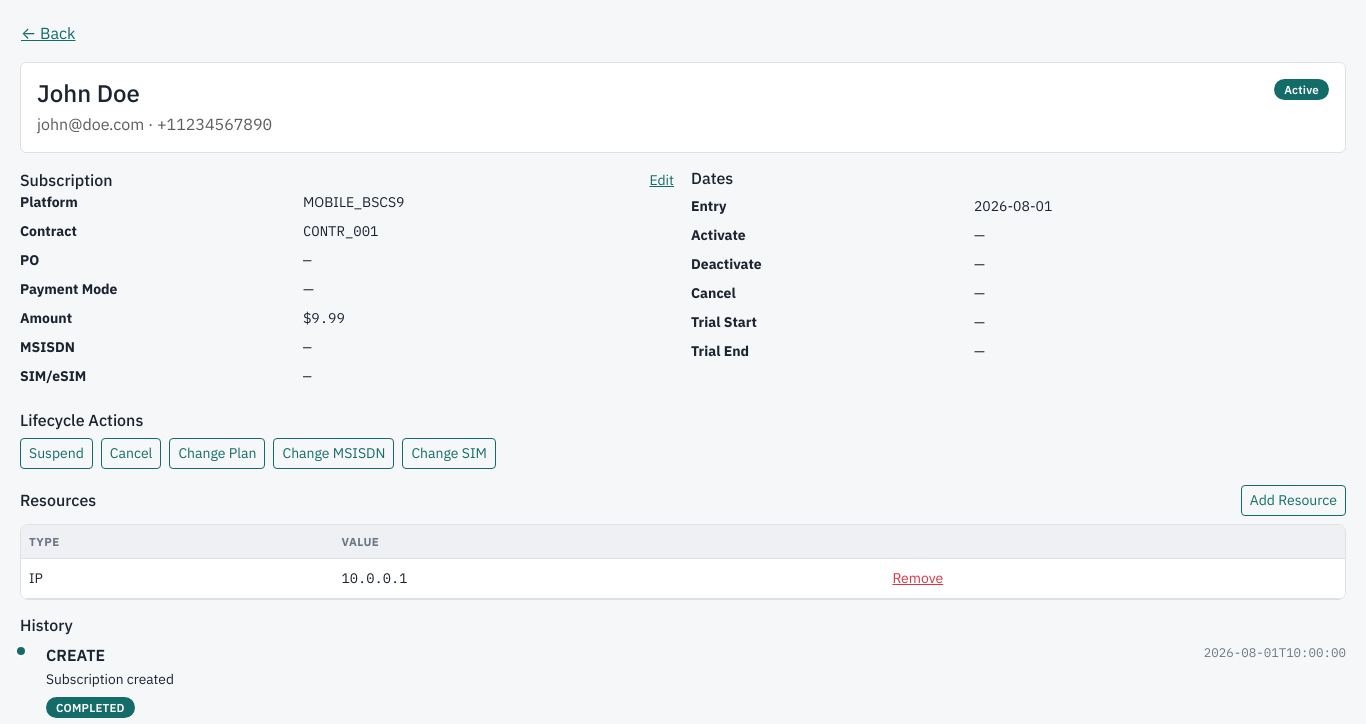
Test: a rejected subscription edit shows its error without changing the displayed data
The width and height of the screenshot is (1366, 724).
Expected: the heading "John Doe" is shown, x1=37 y1=77 x2=140 y2=109
Click the button "Edit" at (662, 180), box x1=648 y1=169 x2=675 y2=192
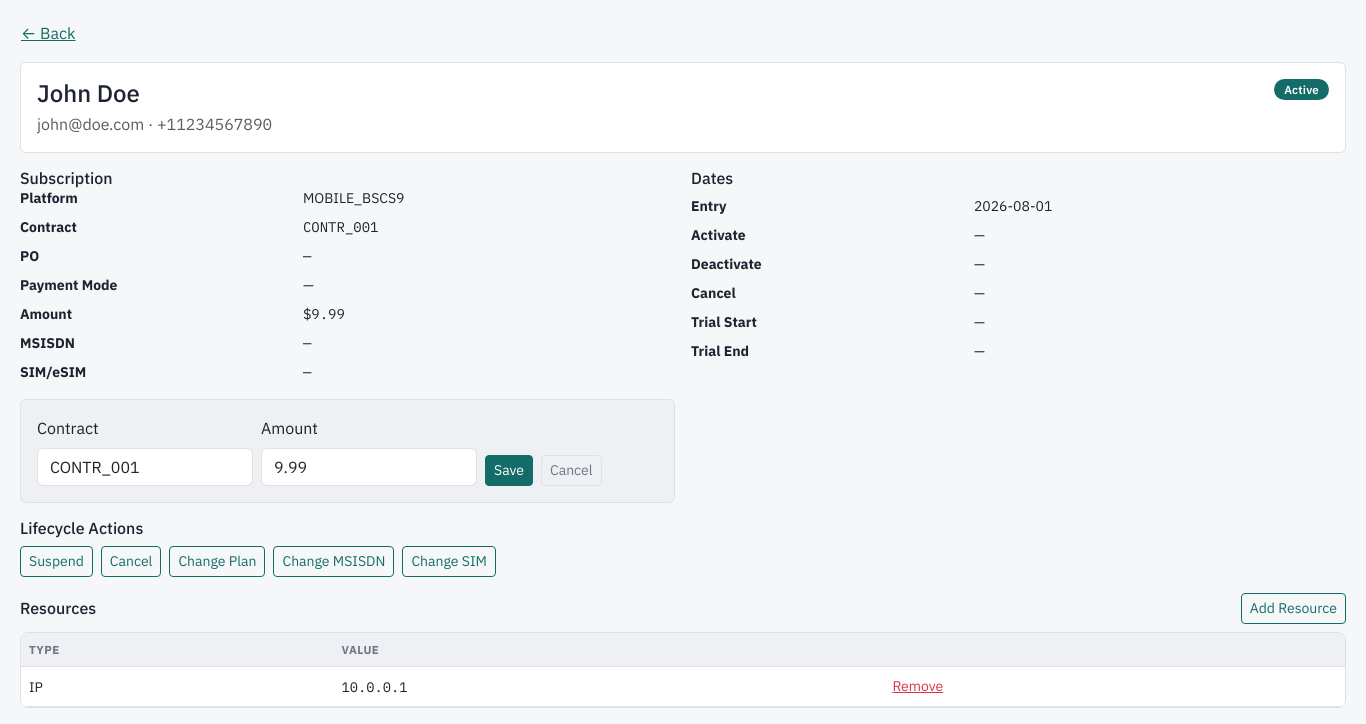
Replace the text in the number field labelled "Amount" with "-5" at (369, 467), box x1=261 y1=448 x2=477 y2=486
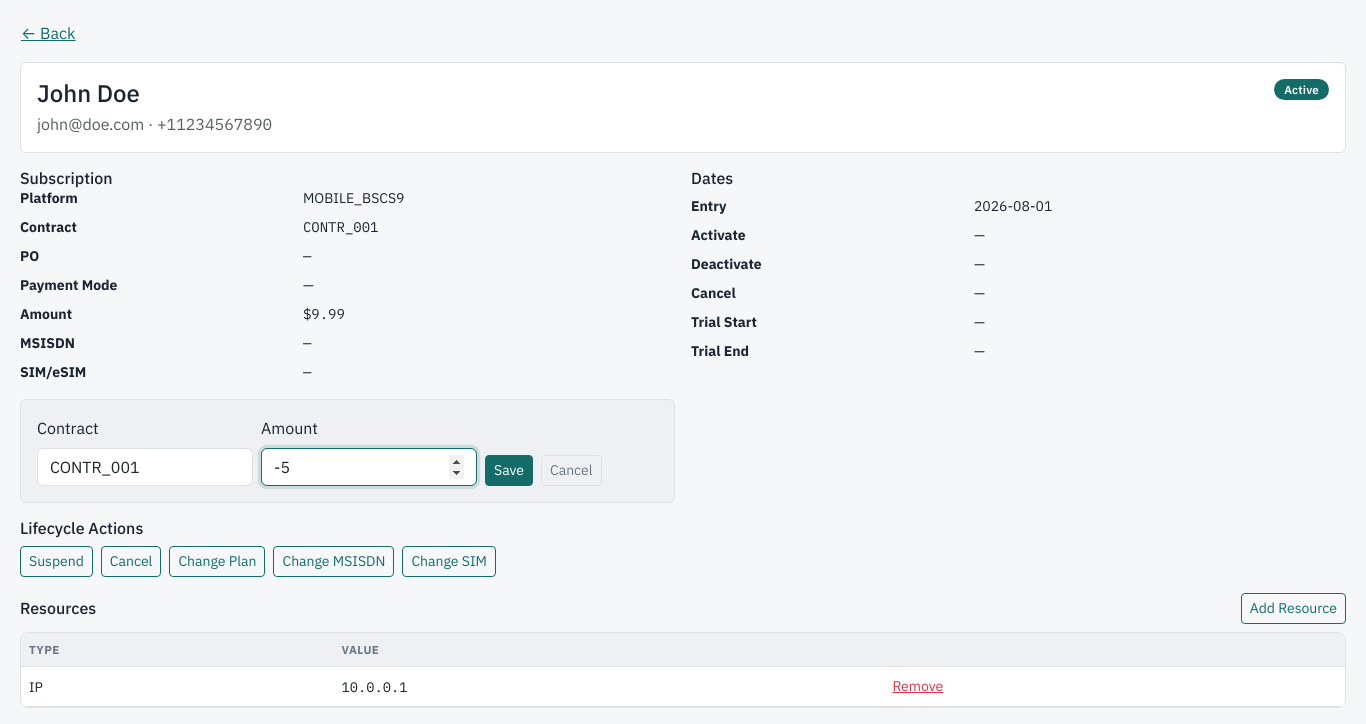
Click the button "Save" at (509, 470), box x1=485 y1=455 x2=533 y2=486
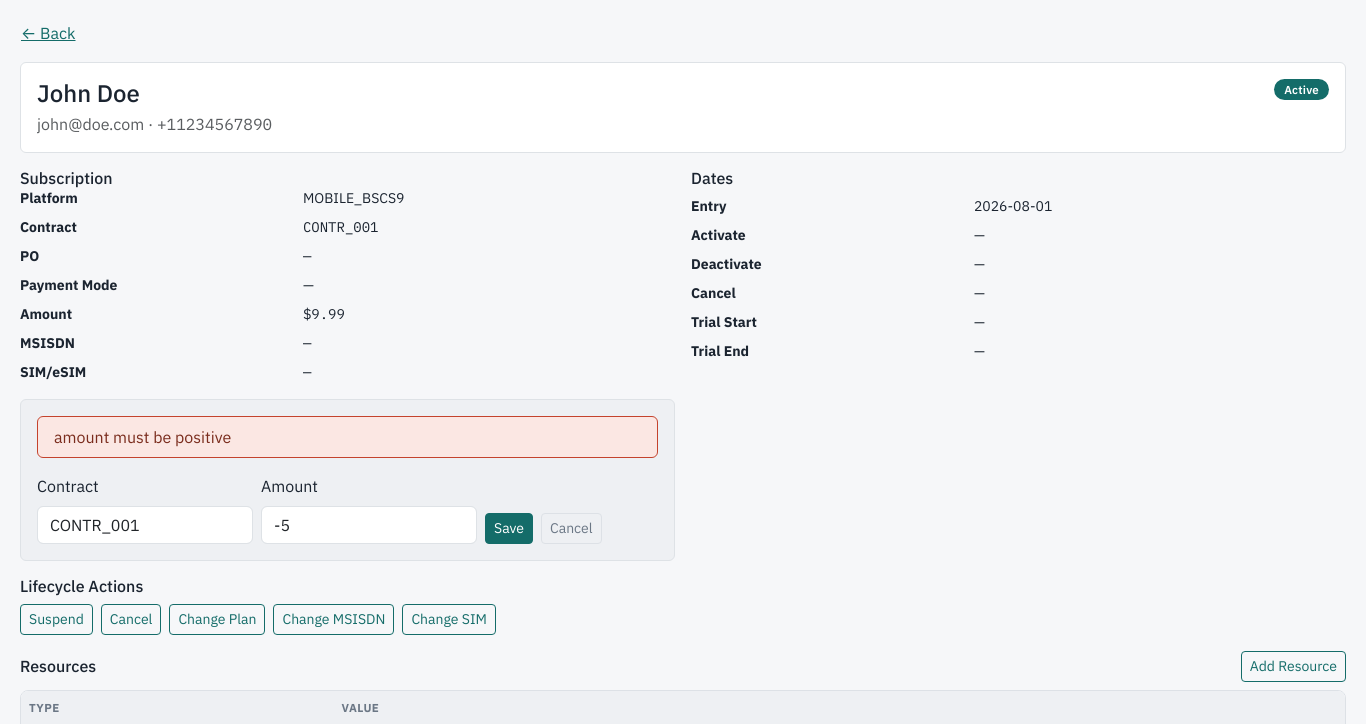
Expected: the text "CONTR_001" is shown, x1=303 y1=218 x2=378 y2=236
Result: the text "amount must be positive" is shown at x1=37 y1=416 x2=658 y2=458
